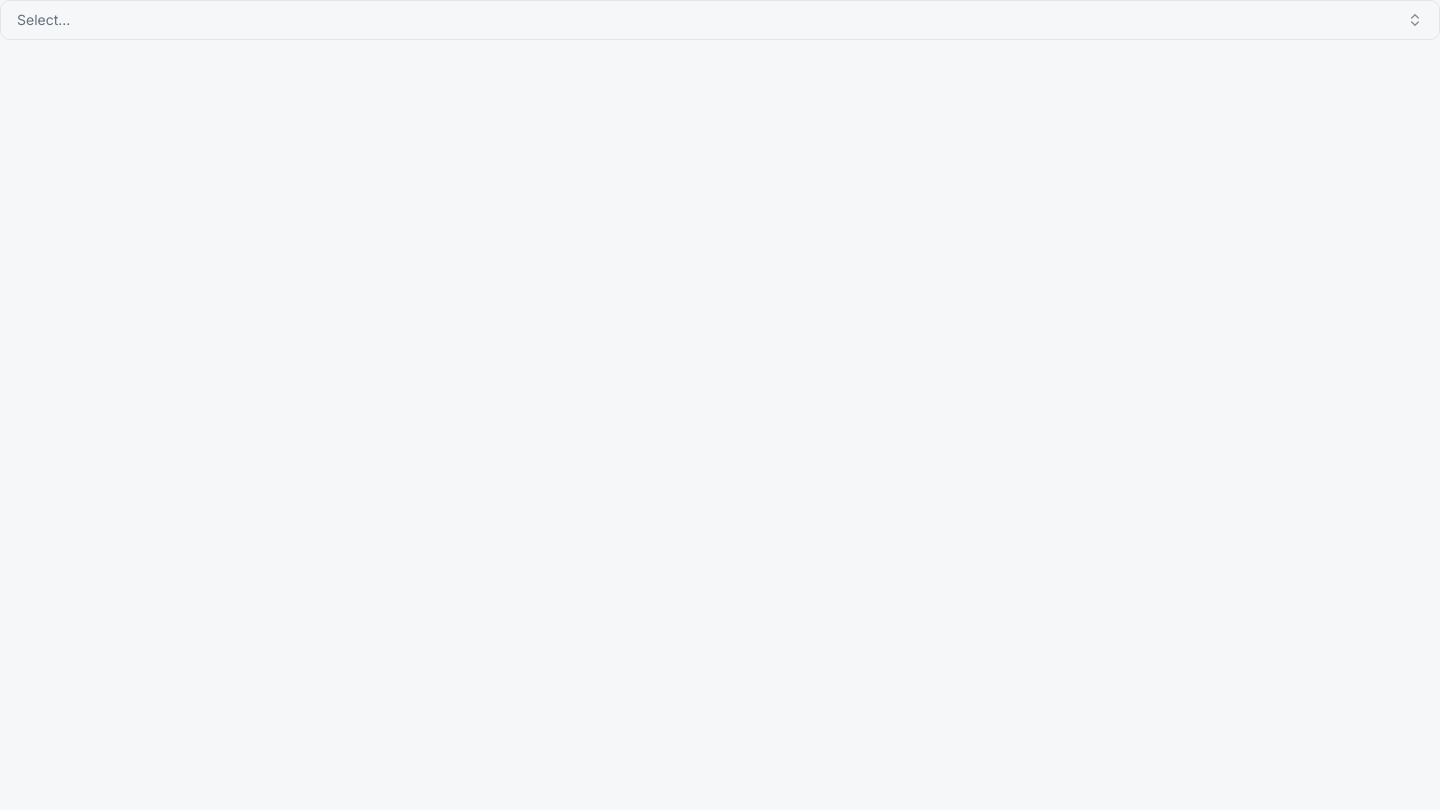
Test case: Combobox in server-search mode › shows the caller's failure wording instead of an empty clinic
Click the dropdown at point(44, 20), box left=0, top=0, right=1439, bottom=40
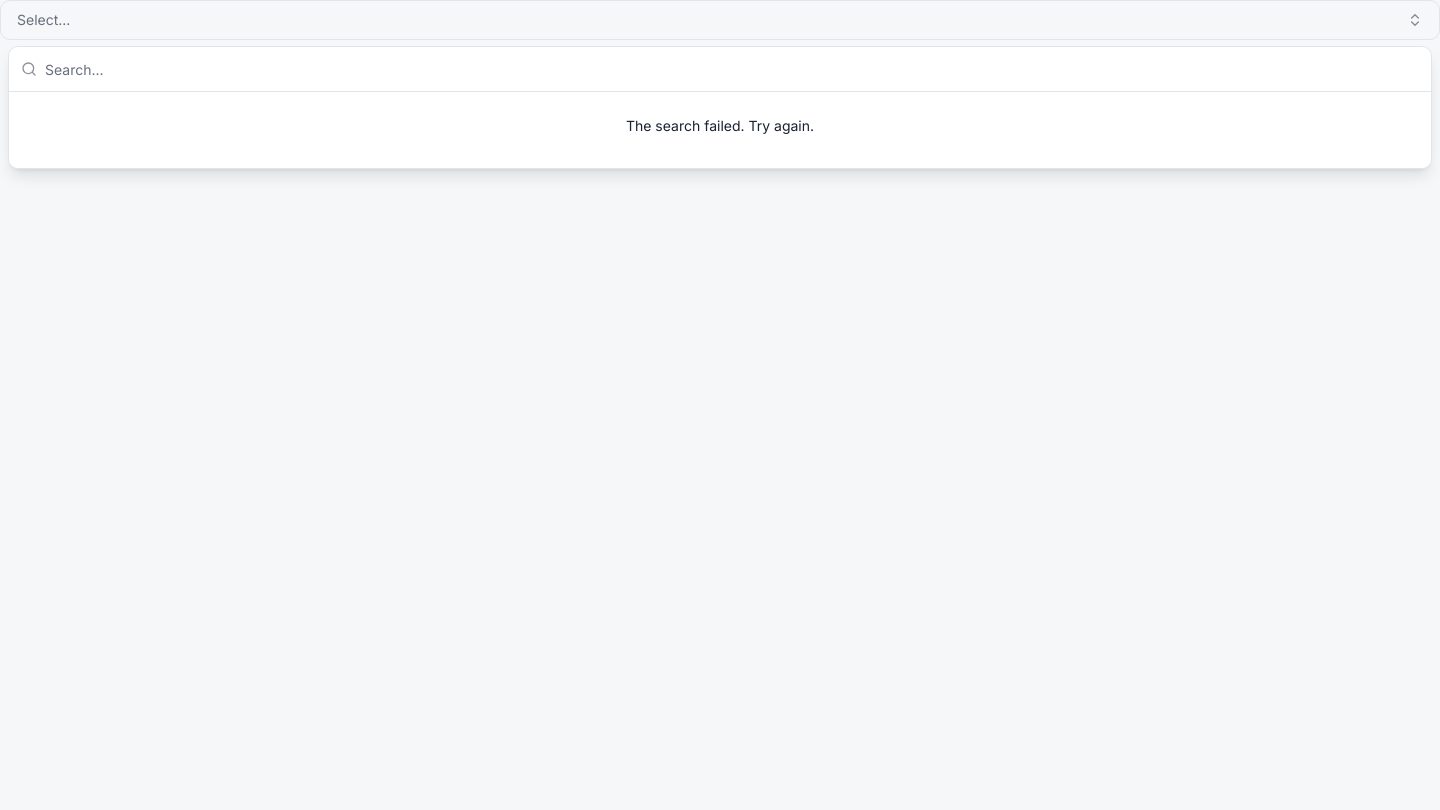
Check: the text "The search failed. Try again." is shown, box left=626, top=117, right=814, bottom=134
